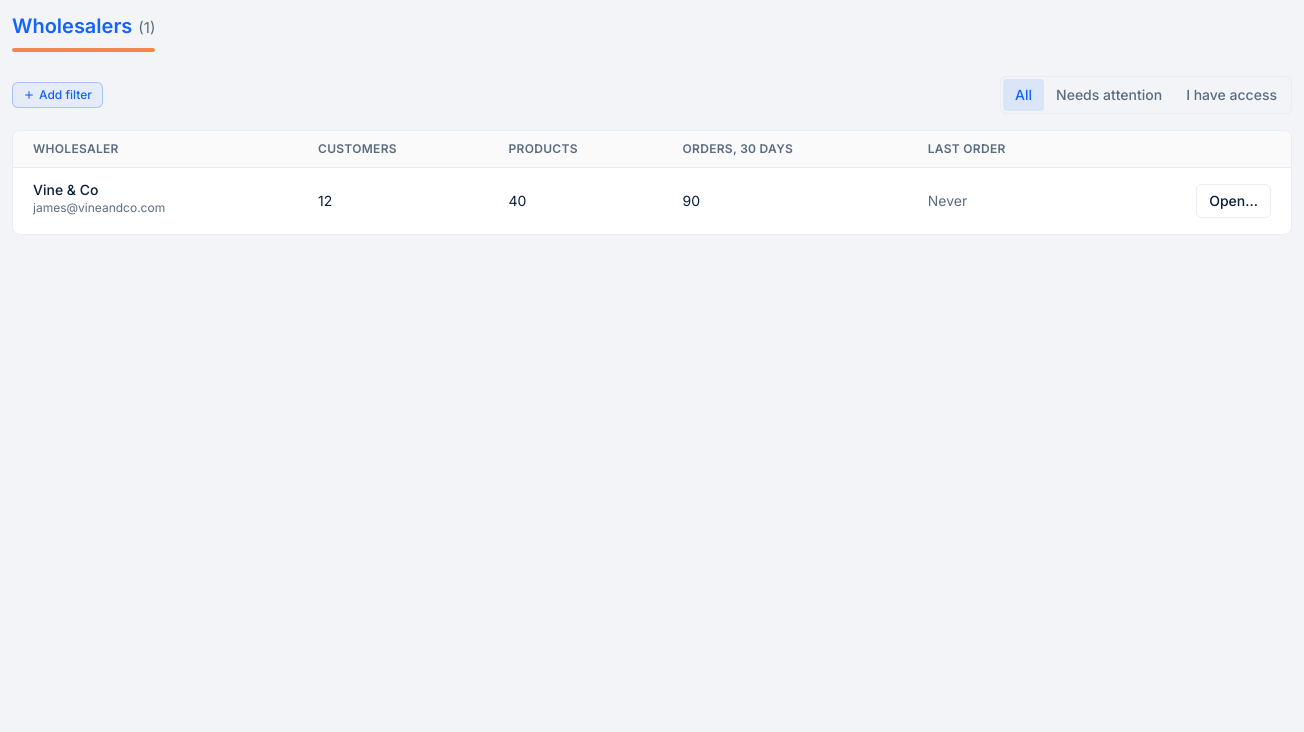
WholesalersPage › asks again for the chosen view and says when nothing matches
The image size is (1304, 732).
expect the table is shown: met, box [13,131,1291,234]
Click the button "I have access" at (1232,95), box [1174,79,1289,111]
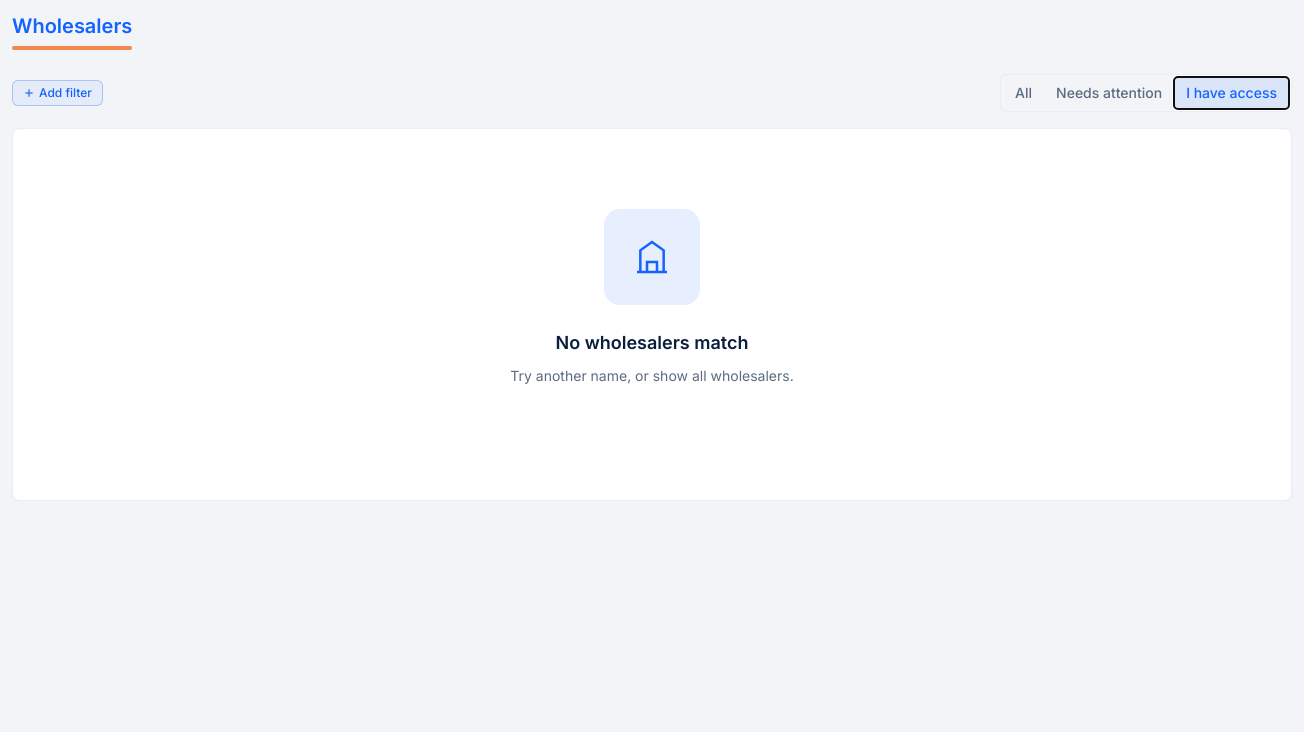
expect the heading "No wholesalers match" is shown: met, box [556,329,748,357]
